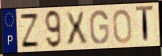9: (44, 9, 63, 50)
G: (89, 9, 110, 46)
O: (112, 8, 133, 45)
T: (135, 4, 155, 46)
X: (63, 11, 89, 47)
Z: (19, 12, 41, 48)
